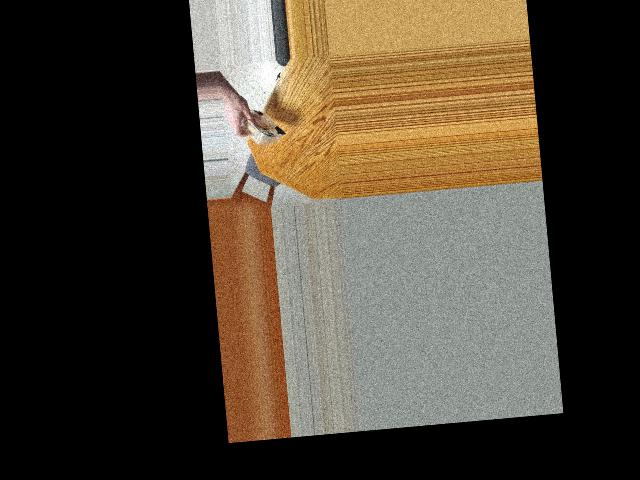cheese: (236, 92, 284, 155)
